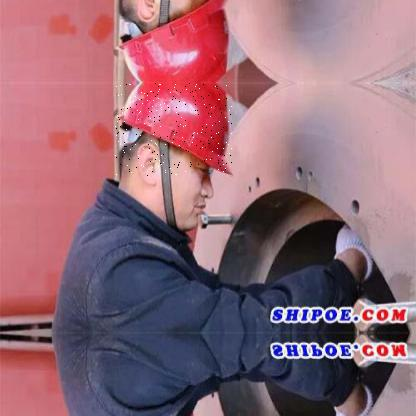safetyhelmet: (115, 84, 233, 178)
